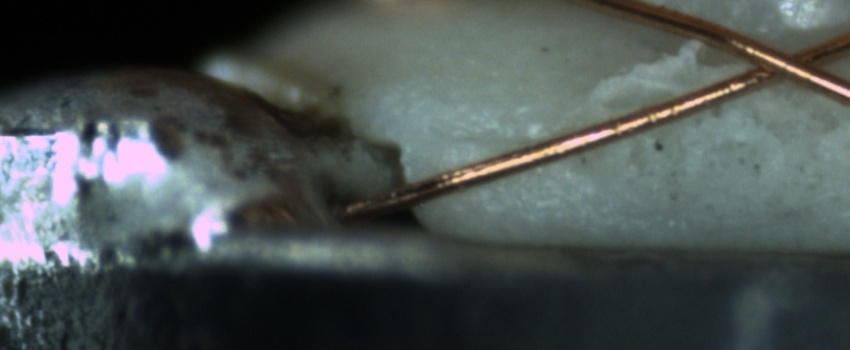CL: (720, 31, 850, 93)
DL: (438, 107, 575, 165)
